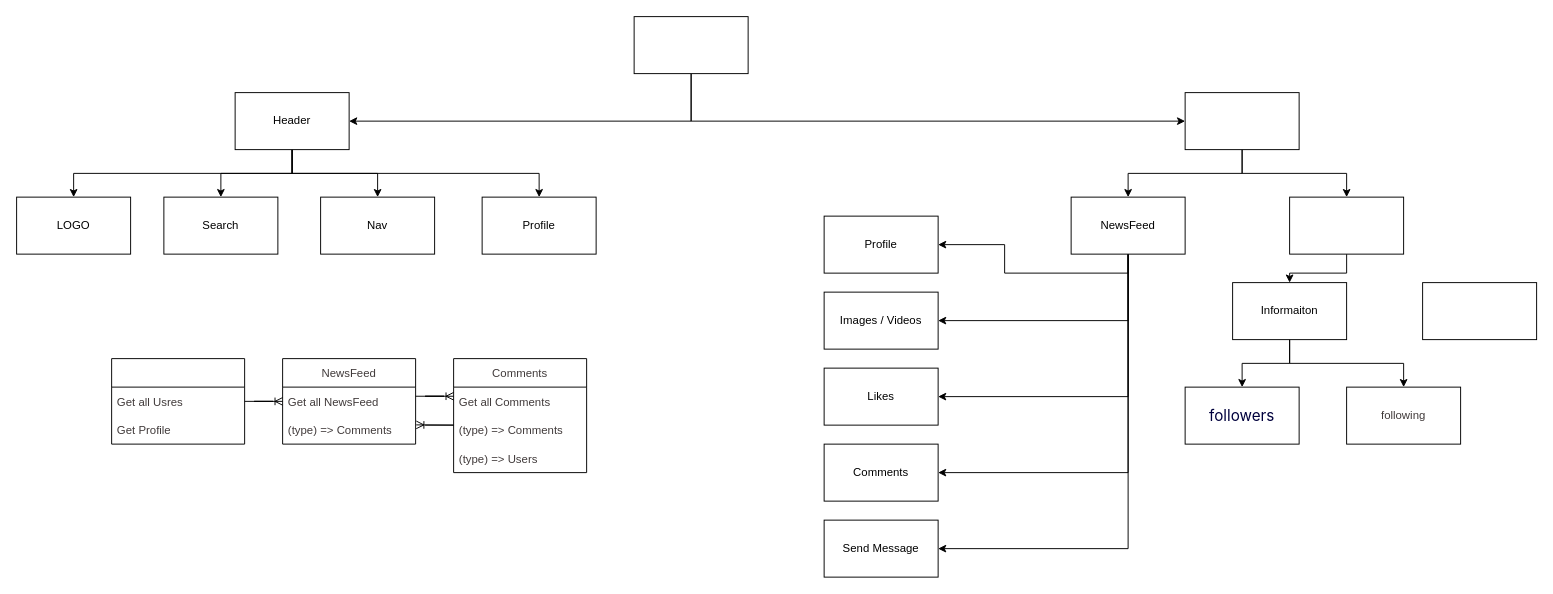
Image size: 1553x594. Some labels were removed from this diagram. The box of each missing label's shape, as (x1, y1, x2, y2) in pixels:
Home: (633, 16, 748, 74)
Main: (1184, 92, 1299, 150)
Person: (1289, 196, 1404, 254)
Profile Images: (1422, 282, 1537, 340)
Users: (111, 358, 245, 444)
